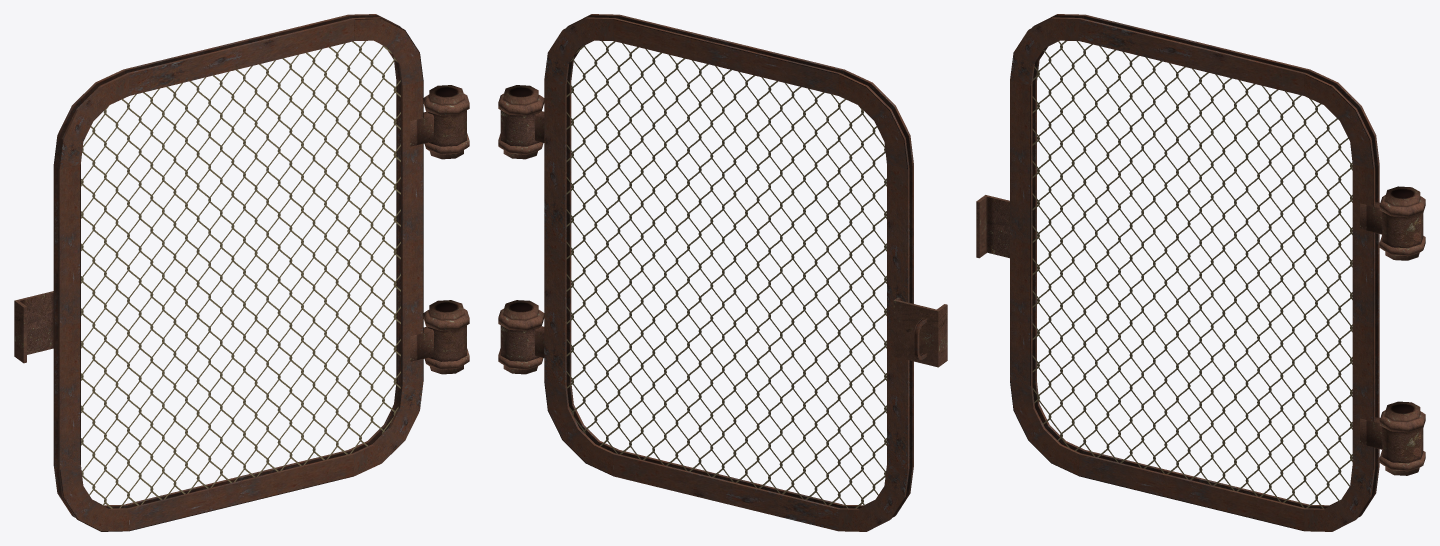
Rendered from swingdoor_scaffold_left.dae.
The picture shows the model from 3 angles, left to right: view 1: azimuth 30°, elevation 25°; view 2: azimuth 150°, elevation 25°; view 3: azimuth 330°, elevation 25°; orthographic projection.
Parts seen in each view (by area): view 1: door, polySurface193, polySurface197, polySurface131, hinges; view 2: door, polySurface193, polySurface197, polySurface131, hinges; view 3: door, polySurface193, polySurface197, hinges, polySurface131.
Boxes of the visible parts, <box> form: door: <box>53,14,423,531</box>; polySurface193: <box>81,41,400,508</box>; polySurface197: <box>14,110,466,363</box>; polySurface131: <box>90,43,400,486</box>; hinges: <box>423,85,469,374</box>; door: <box>544,14,926,531</box>; polySurface193: <box>566,41,886,508</box>; polySurface197: <box>500,110,947,367</box>; polySurface131: <box>566,42,884,486</box>; hinges: <box>498,85,544,374</box>; door: <box>1010,14,1379,531</box>; polySurface193: <box>1032,40,1352,508</box>; polySurface197: <box>976,195,1423,463</box>; hinges: <box>1379,186,1425,475</box>; polySurface131: <box>1039,62,1352,507</box>.
Size of the model in its own units: 2.17 by 2.13 by 0.2396.
